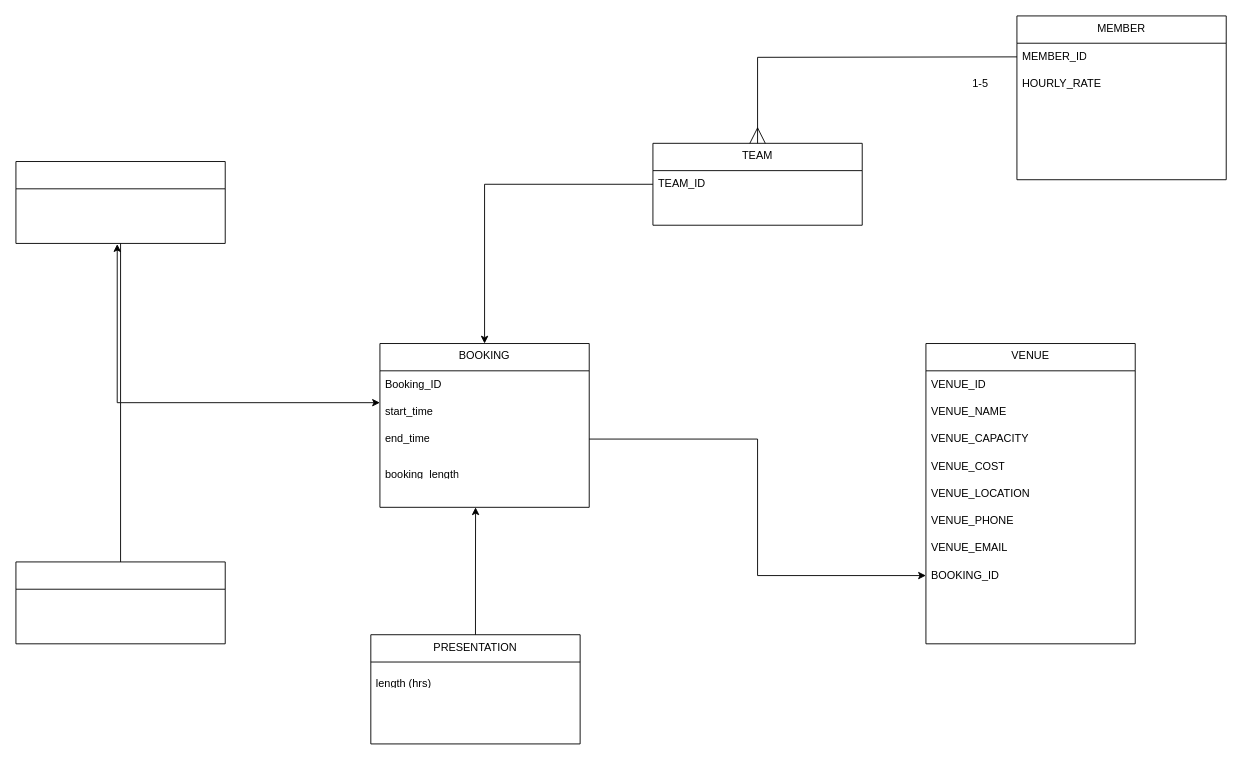
This 1242x760 diagram has some shape labels left out. The shapes that lost their labels are listed below. From the top down, each one's centre as x and y in pixels, then its label:
At point 120,202: "TARGET_AUDIENCE".
At point 120,602: "EXPERT_GUIDES".
